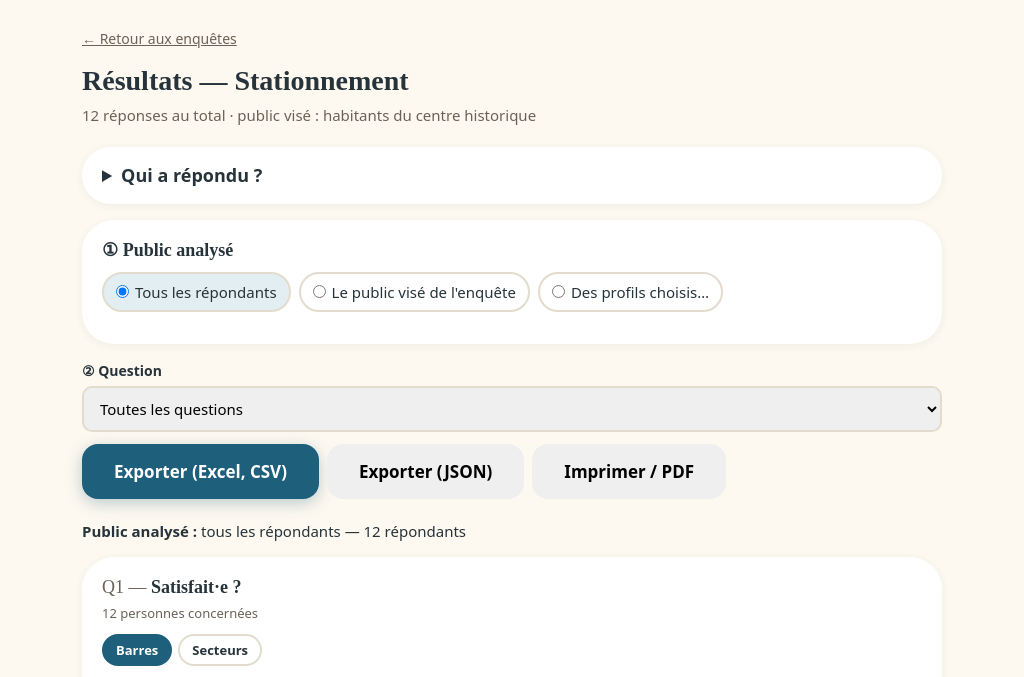
Scenario: Résultats détaillés › une fois le filtre appliqué, le panneau se replie ; « Modifier le filtre » le rouvre
This screenshot has width=1024, height=677.
Check: the heading "Q1 — Satisfait·e ?" is shown, box [102,577,242,597]
Click the radio button labelled "Des profils choisis…" at (558, 292), box [552,285,565,298]
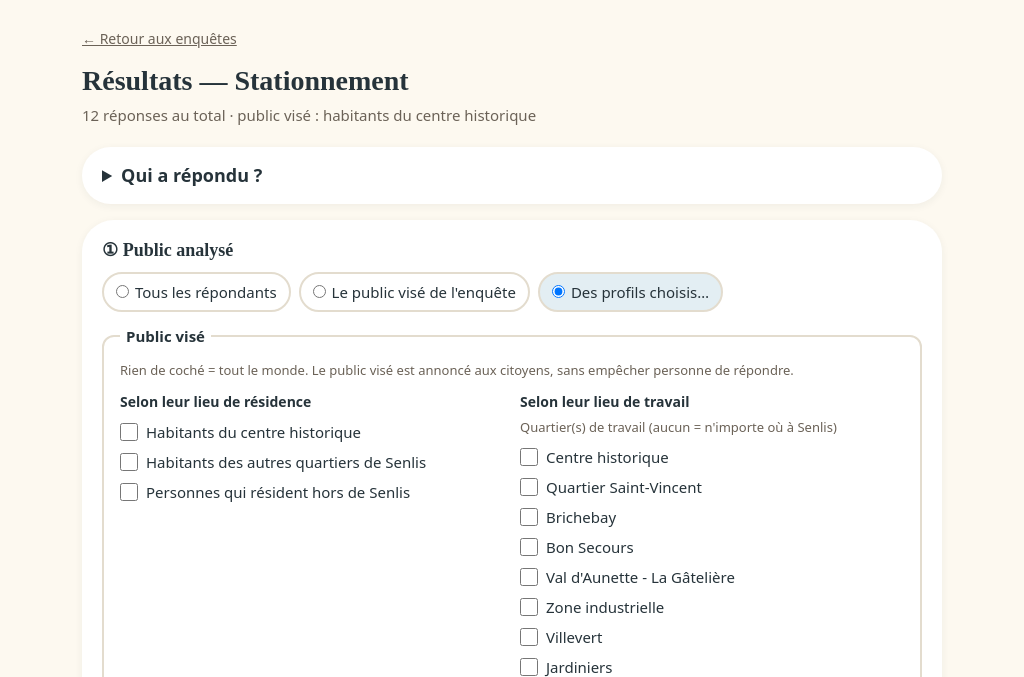
Click the checkbox labelled "Personnes qui résident hors de Senlis" at (129, 492), box [120,483,138,501]
(page scrolled)
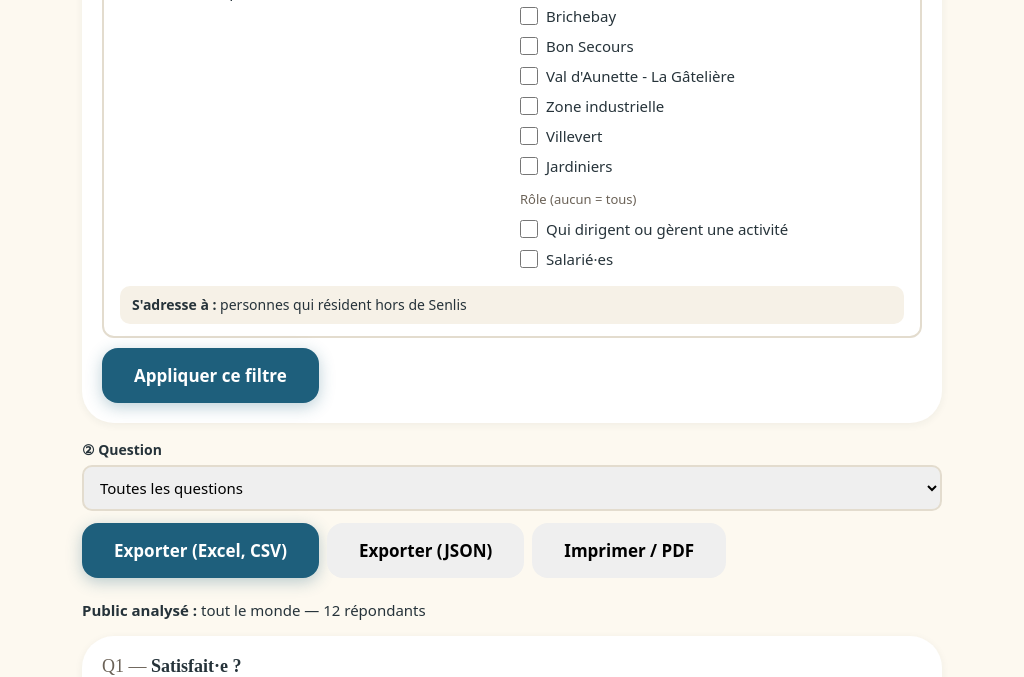
Click the button "Appliquer ce filtre" at (210, 376), box [102,348,319,403]
(page scrolled)
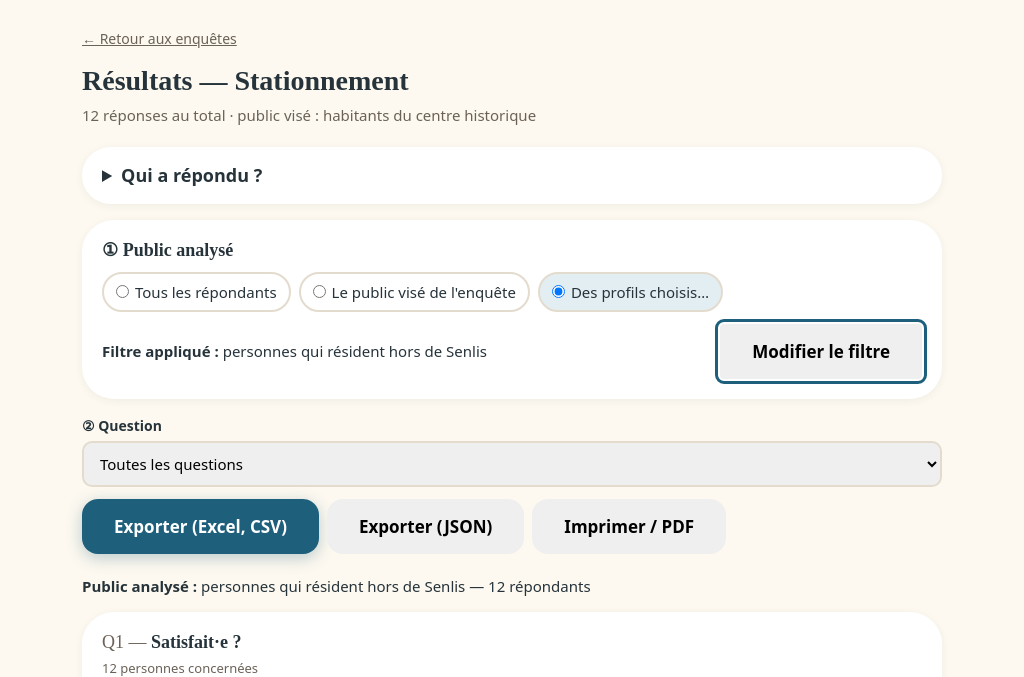
Check: the radio button labelled "Des profils choisis…" is checked, box [552,285,565,298]
Check: the button "Appliquer ce filtre" is gone
Note: Rouvert : les cases cochées sont conservées
Click the button "Modifier le filtre" at (821, 351), box [720,324,922,379]
(page scrolled)
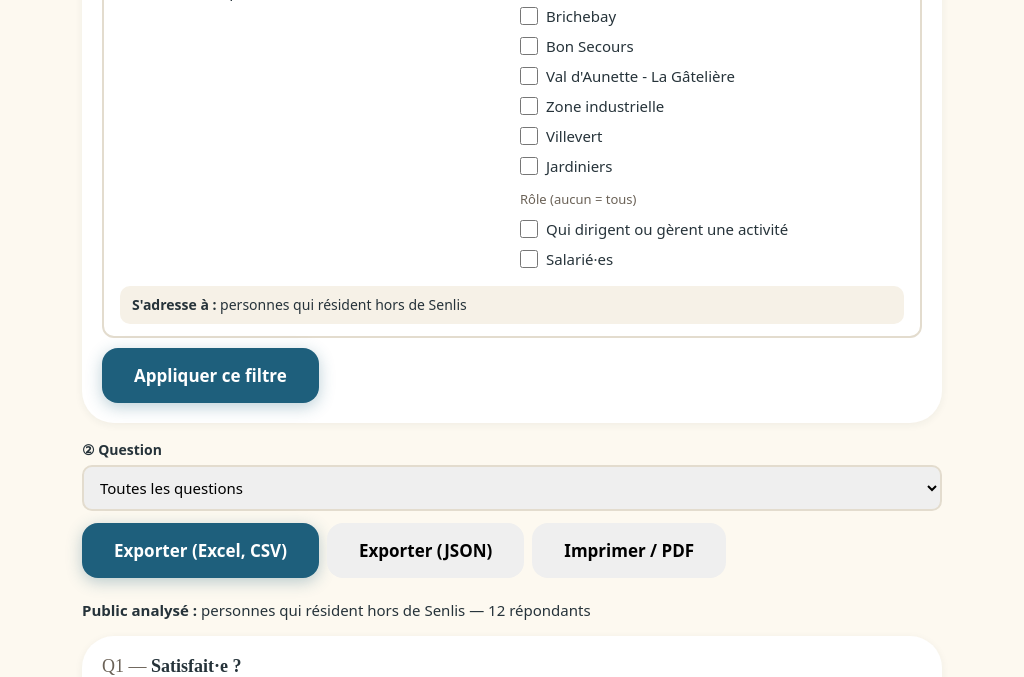
Note: Un clic sur le bouton radio déjà coché rouvre aussi le panneau
Click the button "Appliquer ce filtre" at (210, 376), box [102,348,319,403]
(page scrolled)
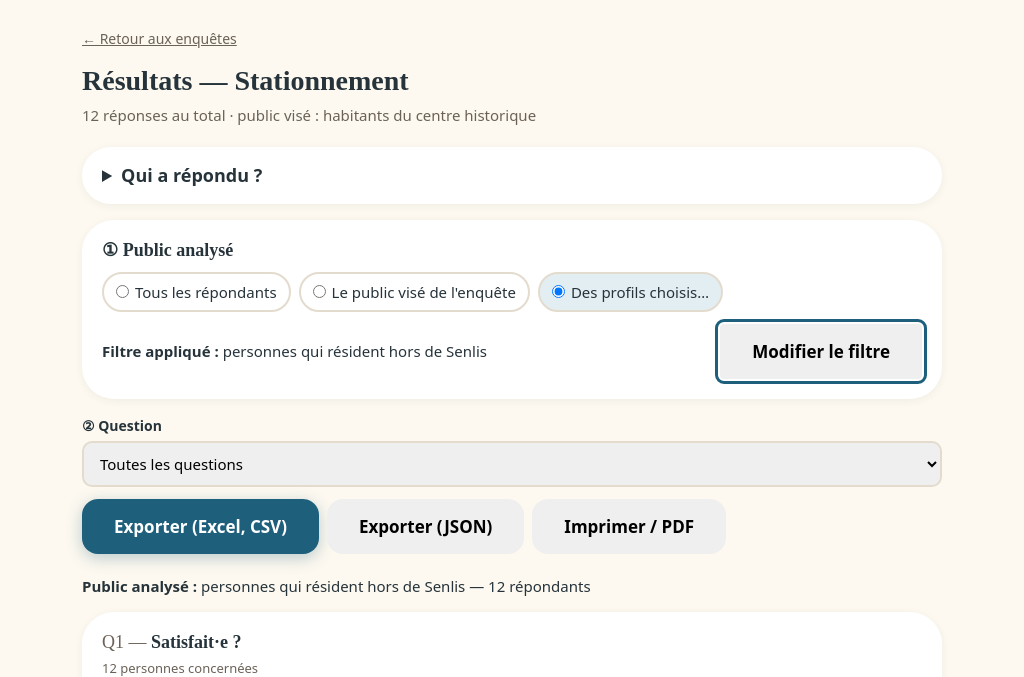
Click the radio button labelled "Des profils choisis…" at (558, 292), box [552,285,565,298]
(page scrolled)
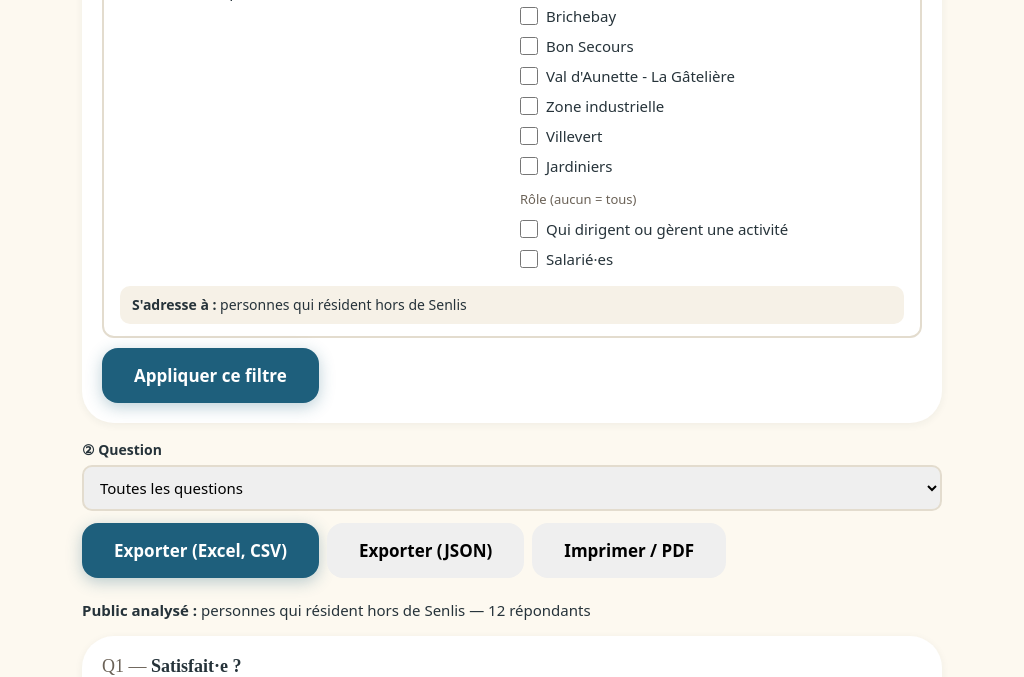
Check: the button "Appliquer ce filtre" is shown, box [102,348,319,403]
